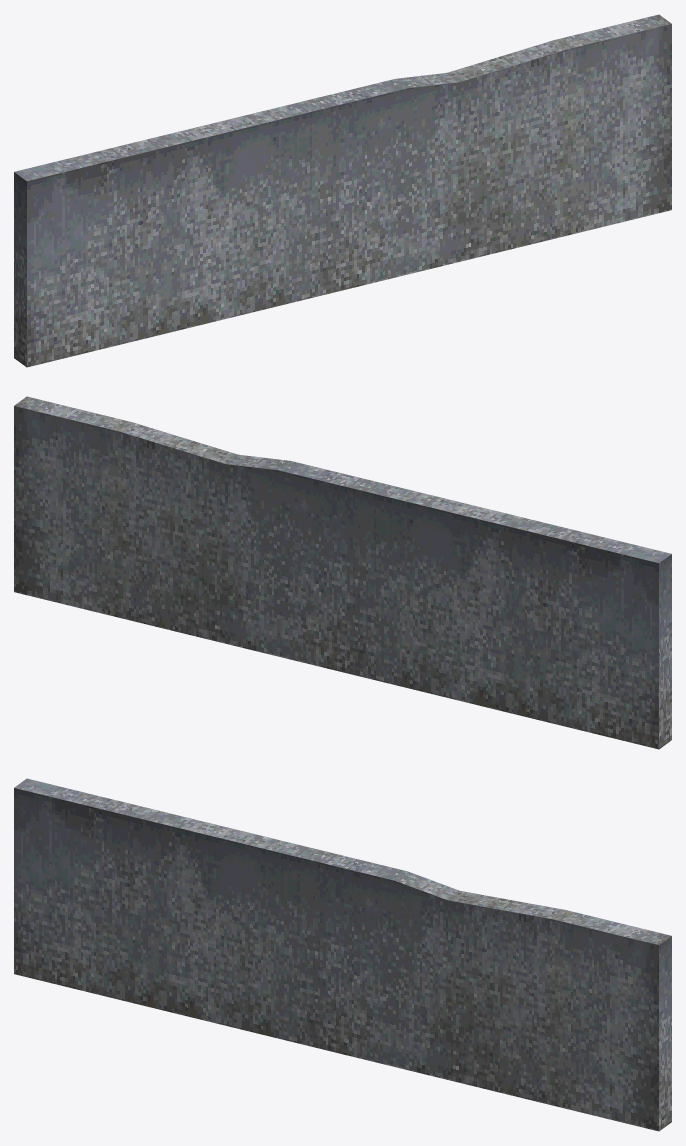
File: plackard_slab_chipped.glb
3 views of the same model, one above another, from view 1: azimuth 30°, elevation 25°; view 2: azimuth 150°, elevation 25°; view 3: azimuth 330°, elevation 25° (orthographic).
Parts seen in each view (by area): view 1: plackard_slab_chipped; view 2: plackard_slab_chipped; view 3: plackard_slab_chipped.
Boxes of the visible parts, <box> form: plackard_slab_chipped: <box>14,14,671,367</box>; plackard_slab_chipped: <box>14,396,671,749</box>; plackard_slab_chipped: <box>14,778,671,1131</box>.
Bounding box in the file's own units: 2.9 × 0.8 × 0.1.
1 material, 1 textured.
